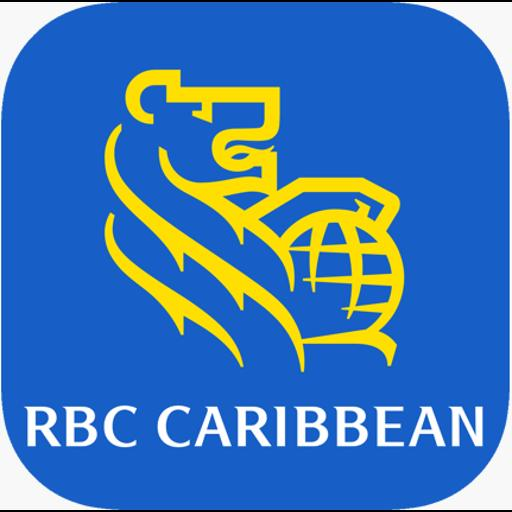RBC Royal Bank: (0, 2, 512, 510)
